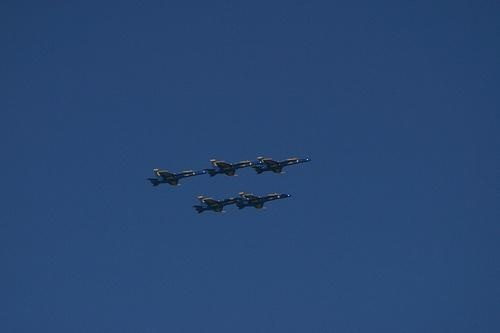aeroplane: (253, 156, 310, 176), (234, 192, 291, 212), (148, 169, 206, 188), (203, 160, 252, 178), (192, 197, 238, 216)
